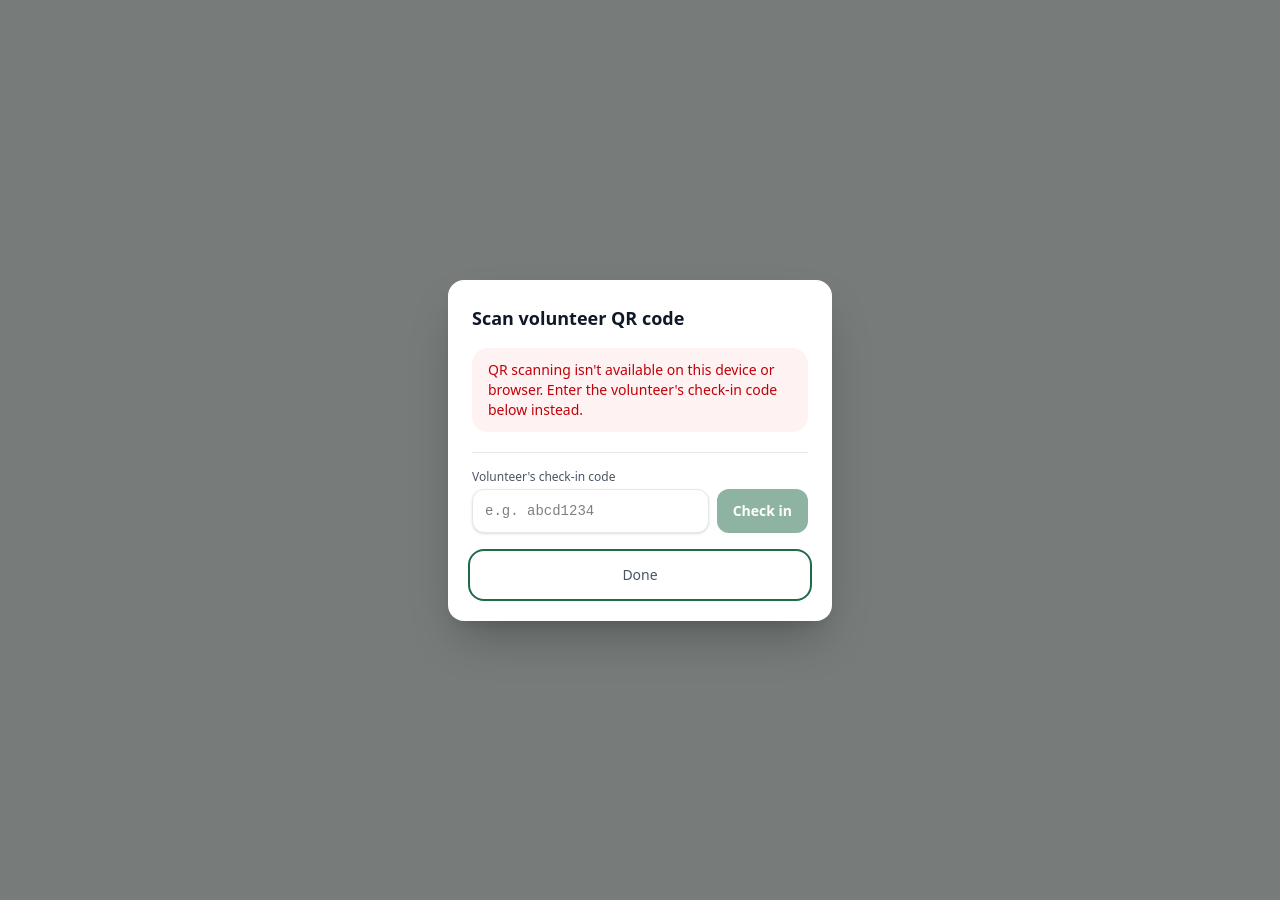
Test: QRScannerModal fallback code input › shows a translated error when the code doesn't match
The image size is (1280, 900).
Type "deadbeef" into the field labelled "Volunteer's check-in code".
click(590, 510); type("deadbeef")  # box x1=472 y1=488 x2=709 y2=532
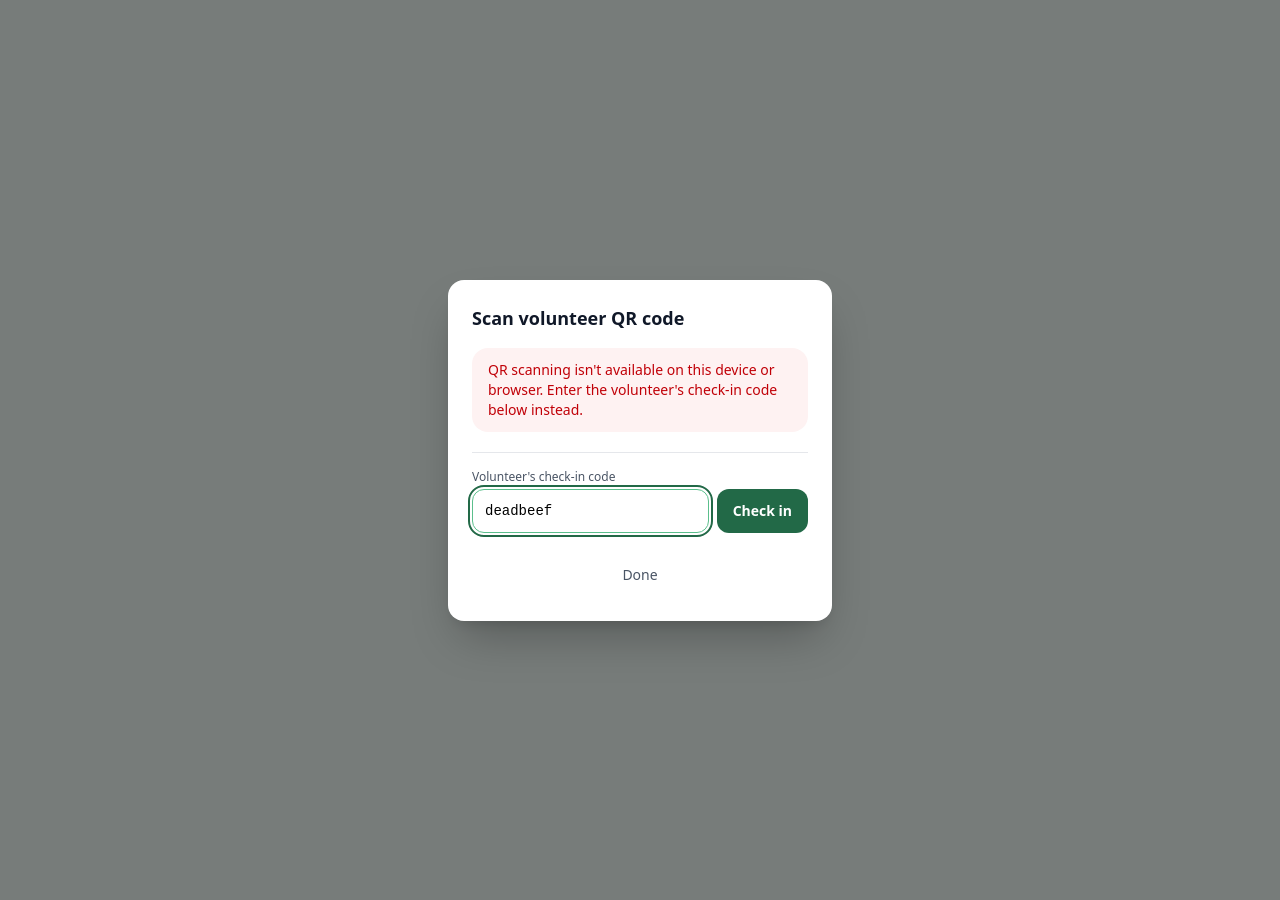
Click the button "Check in".
click(762, 510)  # box x1=717 y1=488 x2=808 y2=532
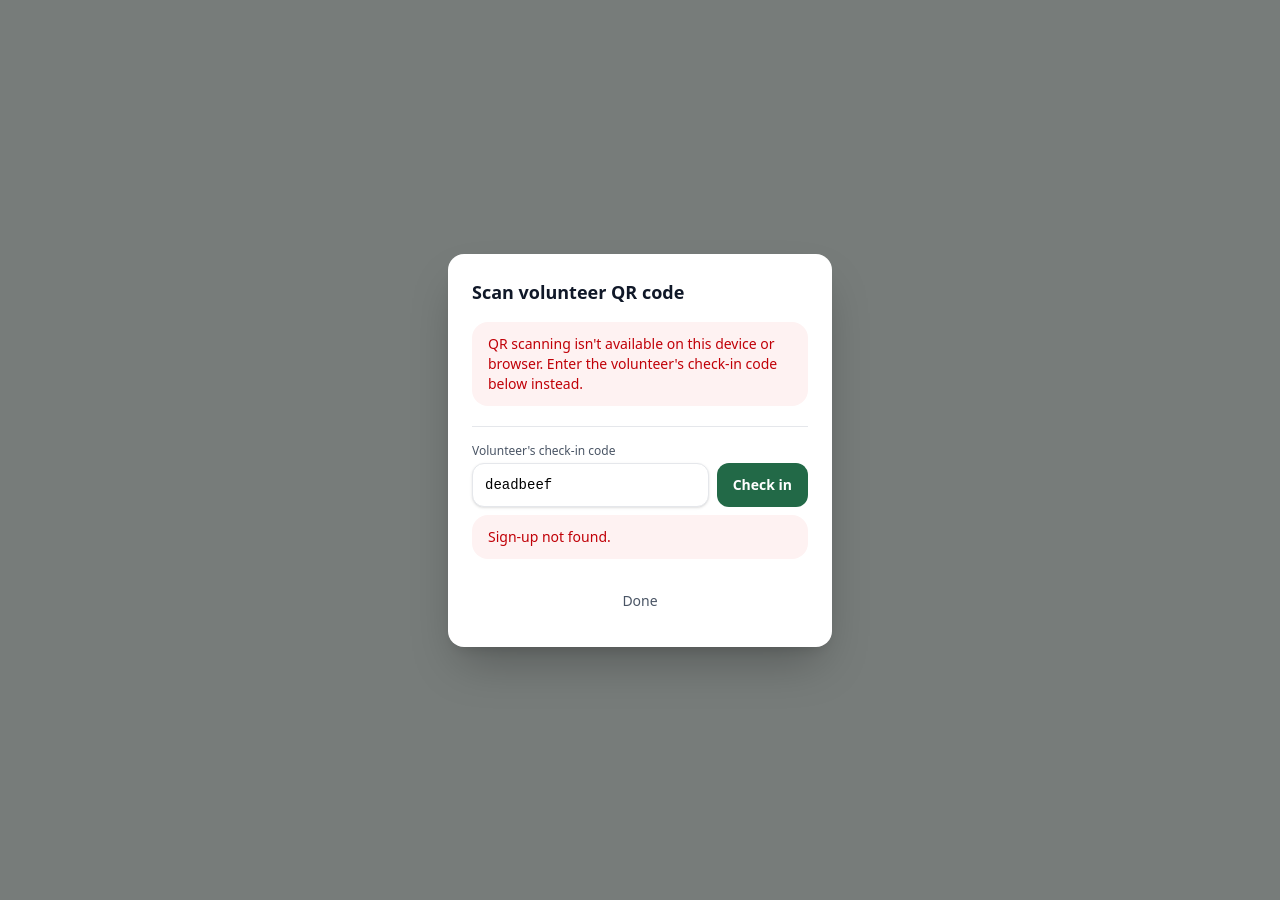
Check: the text "Sign-up not found." is shown, box x1=472 y1=514 x2=808 y2=558
